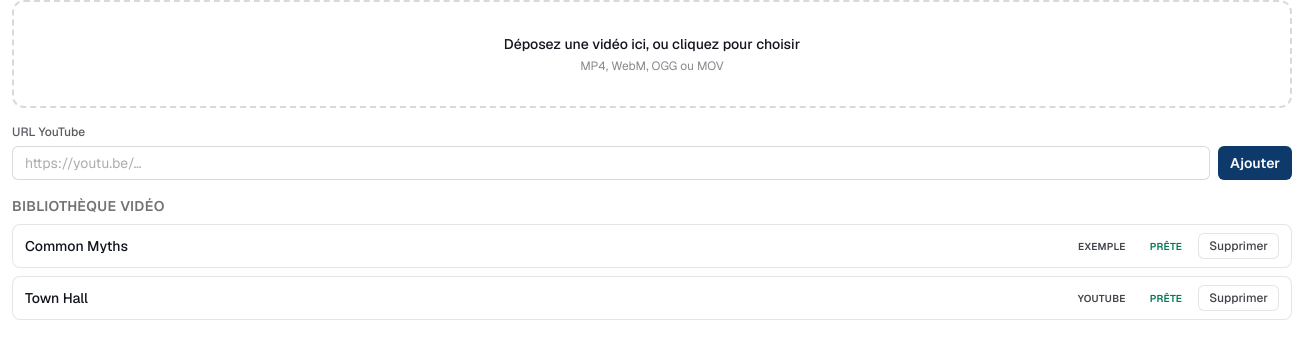
Scenario: BackofficeVideosSection › deleting a video removes it after the list refreshes
Expected: the text "Common Myths" is shown, x1=25 y1=237 x2=128 y2=255
Expected: the list item "Town Hall" is shown, x1=25 y1=289 x2=88 y2=307
Click the button "Supprimer" in the row of "Town Hall". click: (1239, 298)
box: x1=1198 y1=285 x2=1279 y2=311
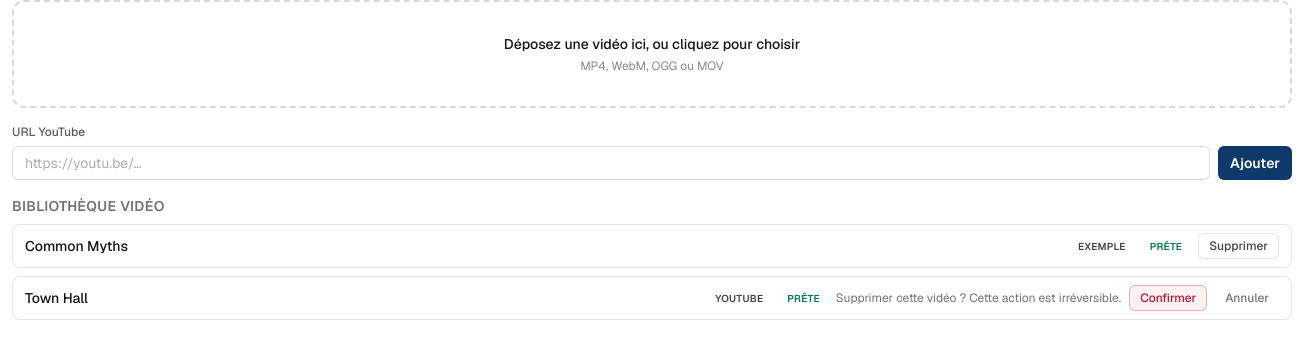
Click the button "Confirmer". click: (1168, 298)
box: x1=1129 y1=285 x2=1207 y2=311
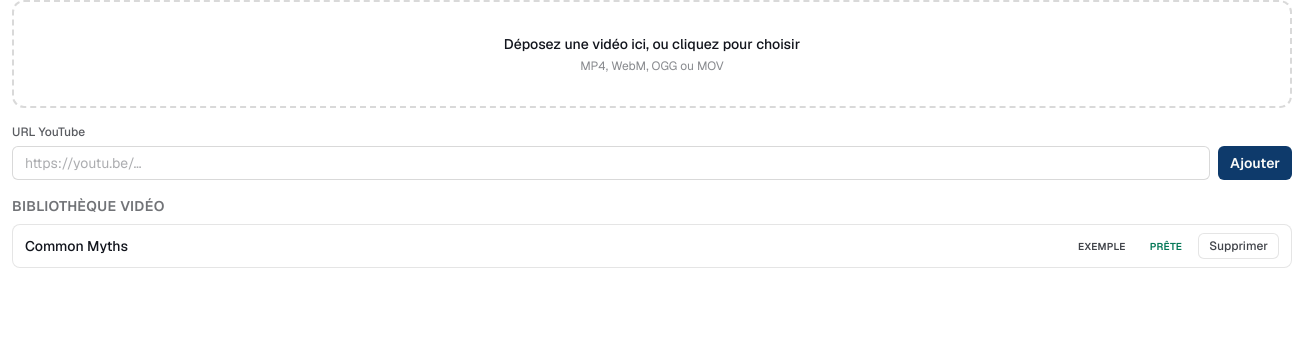
Expected: the text "Common Myths" is shown, x1=25 y1=237 x2=128 y2=255
Result: the text "Town Hall" is gone
